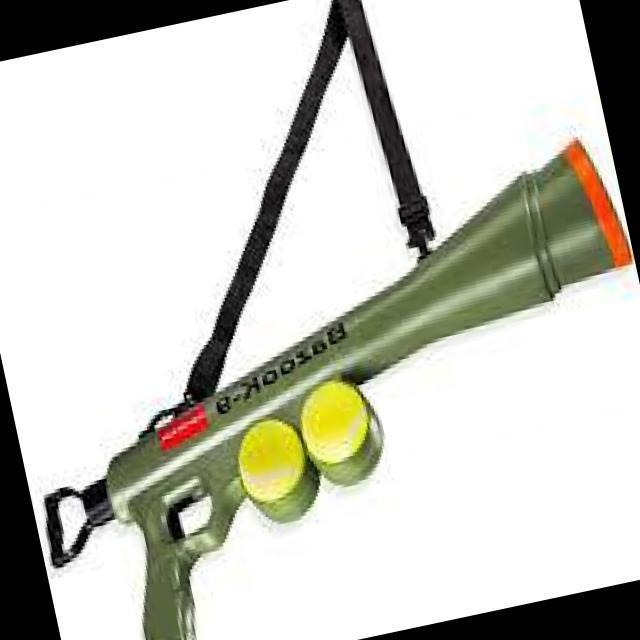rocket: (0, 132, 640, 640)
